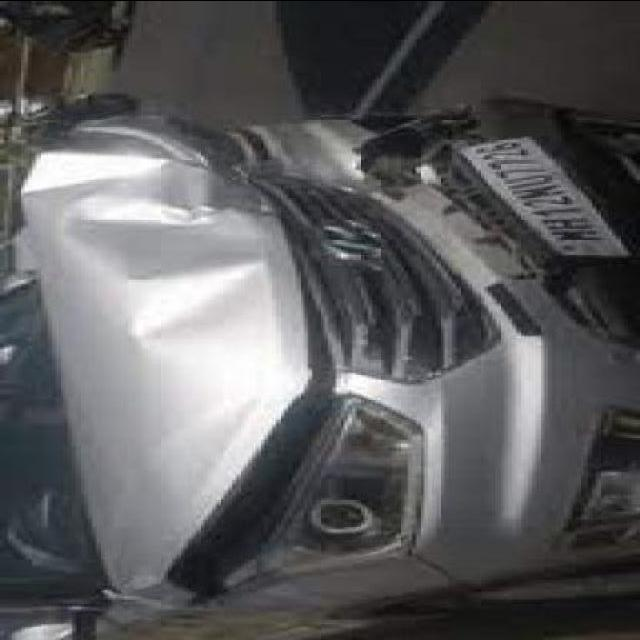bonnet-dent: (20, 116, 316, 592)
front-bumper-dent: (316, 95, 592, 546)
